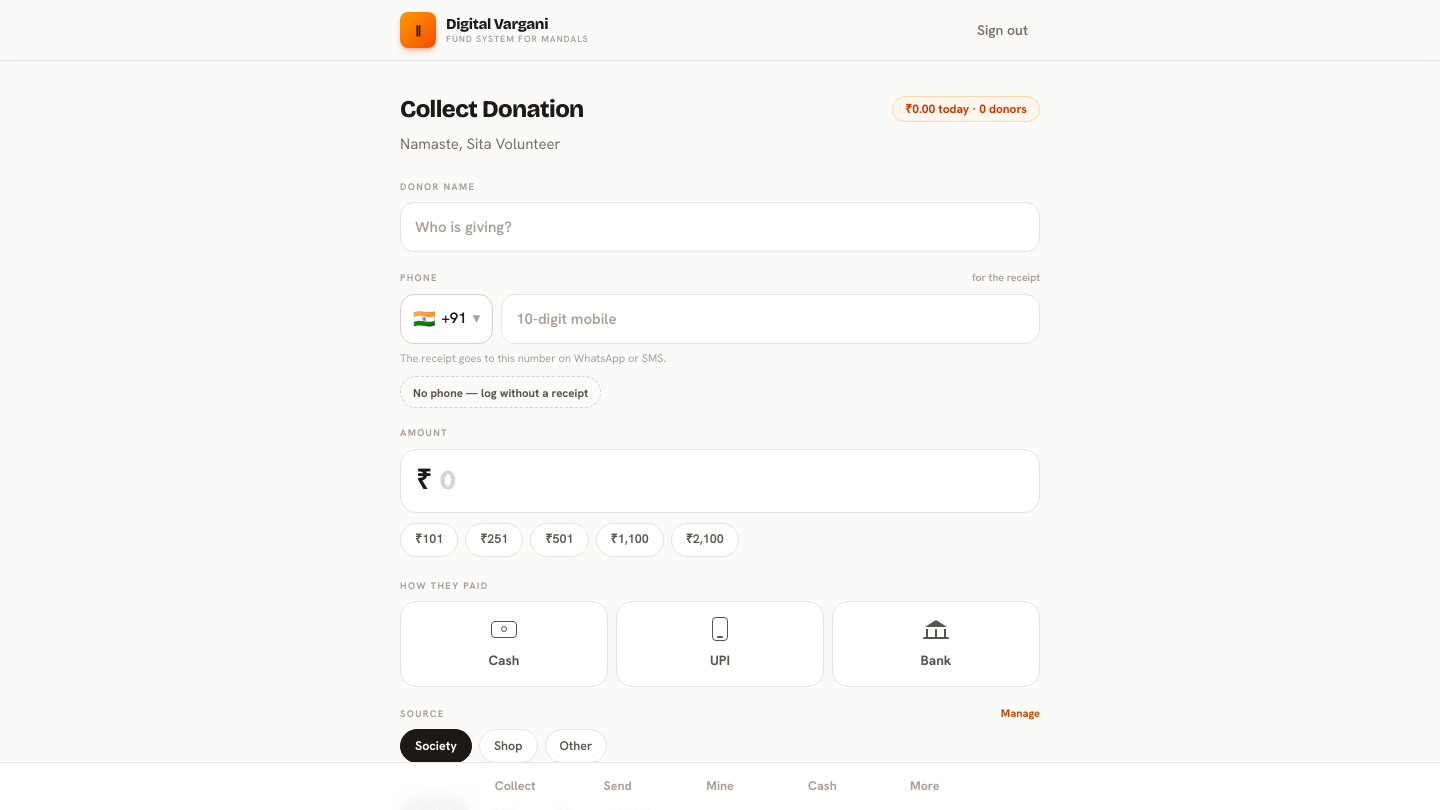
Scenario: CollectionForm › keeps the submit button inert until name, amount and mode are all present
Type "Ramesh Kulkarni" into the field labelled "Donor name" at [720, 227], box [400,202,1040,252]
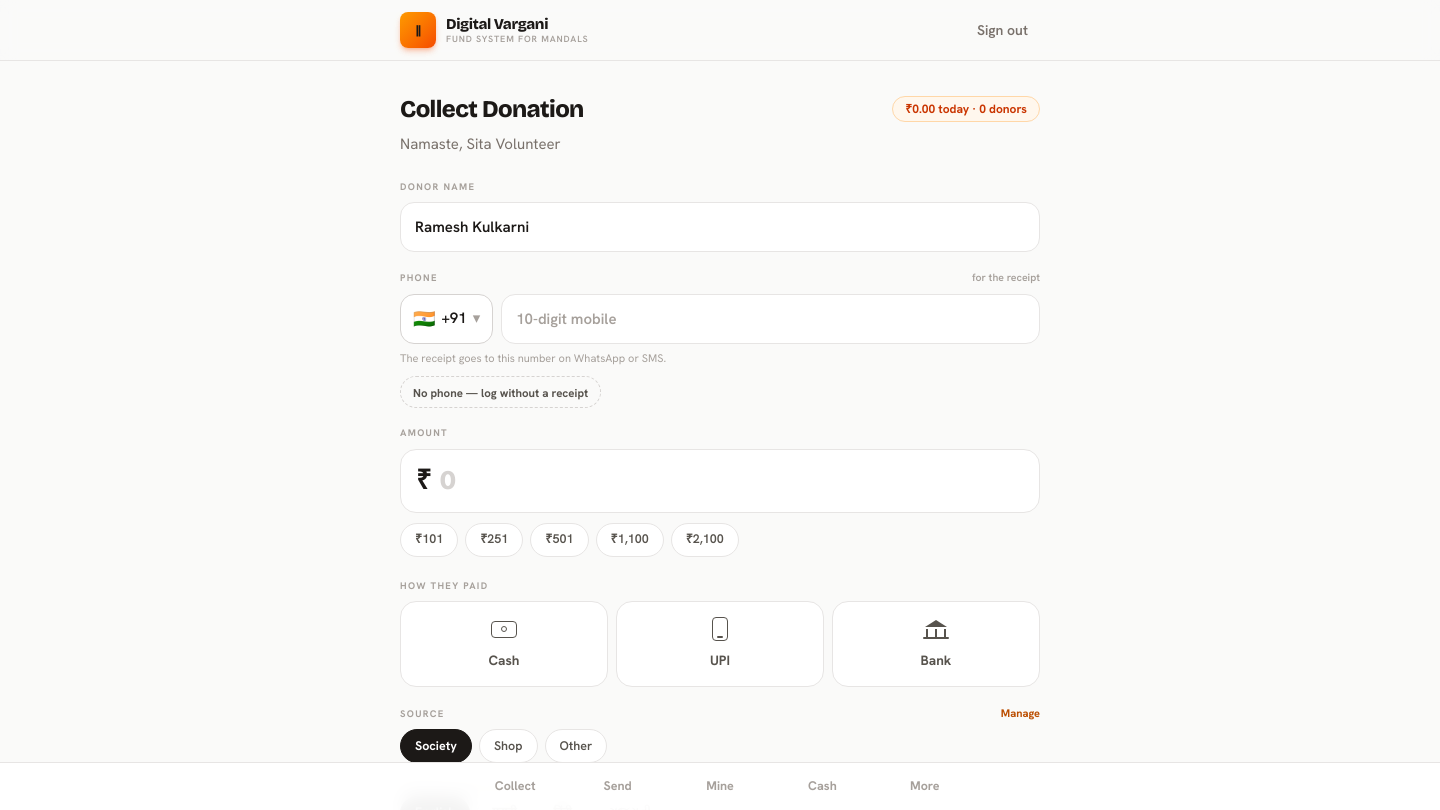
Type "501" into the number field labelled "Amount" at [732, 481], box [440,460,1024,501]
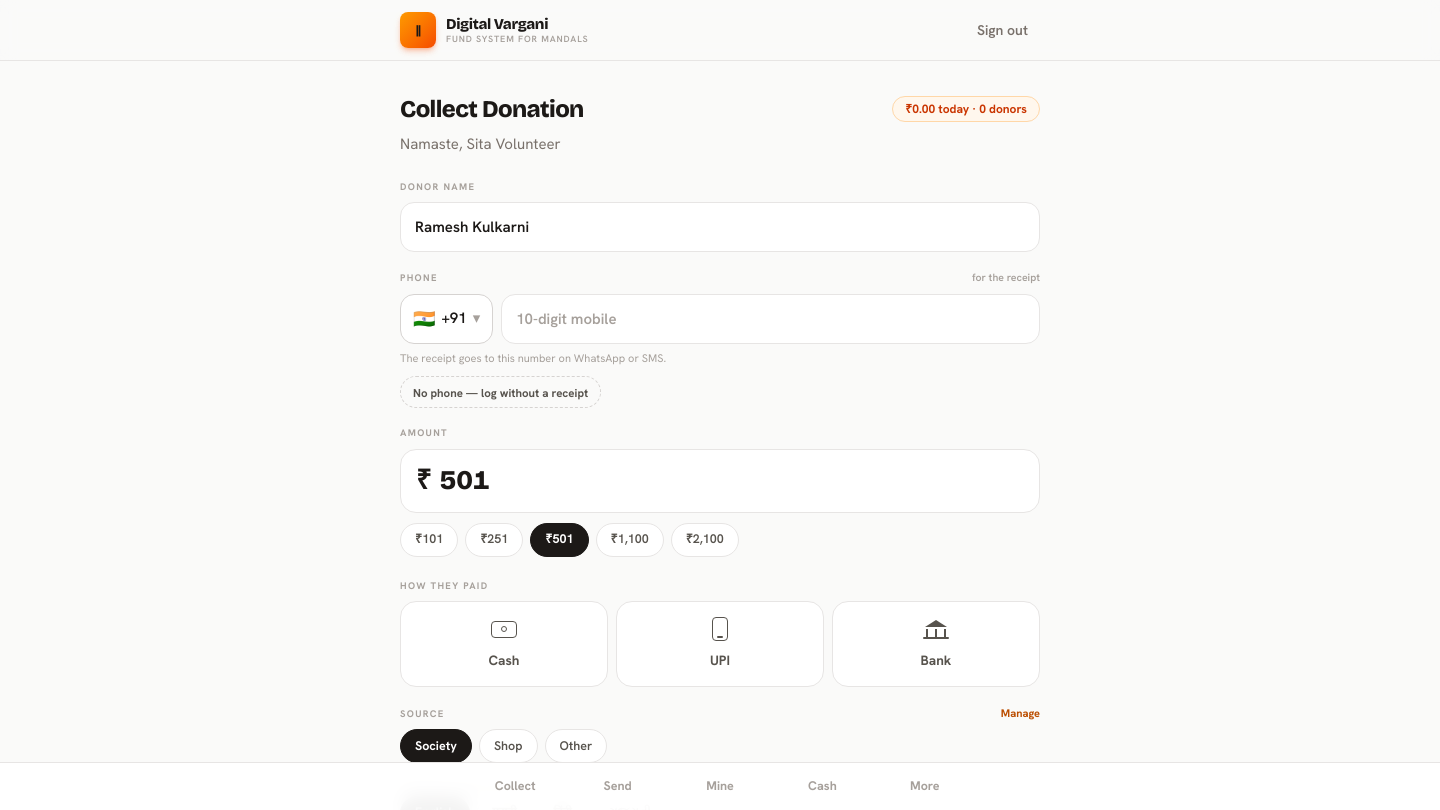
Type "9876543210" into the field named "Phone" at [771, 318], box [501,294,1040,344]
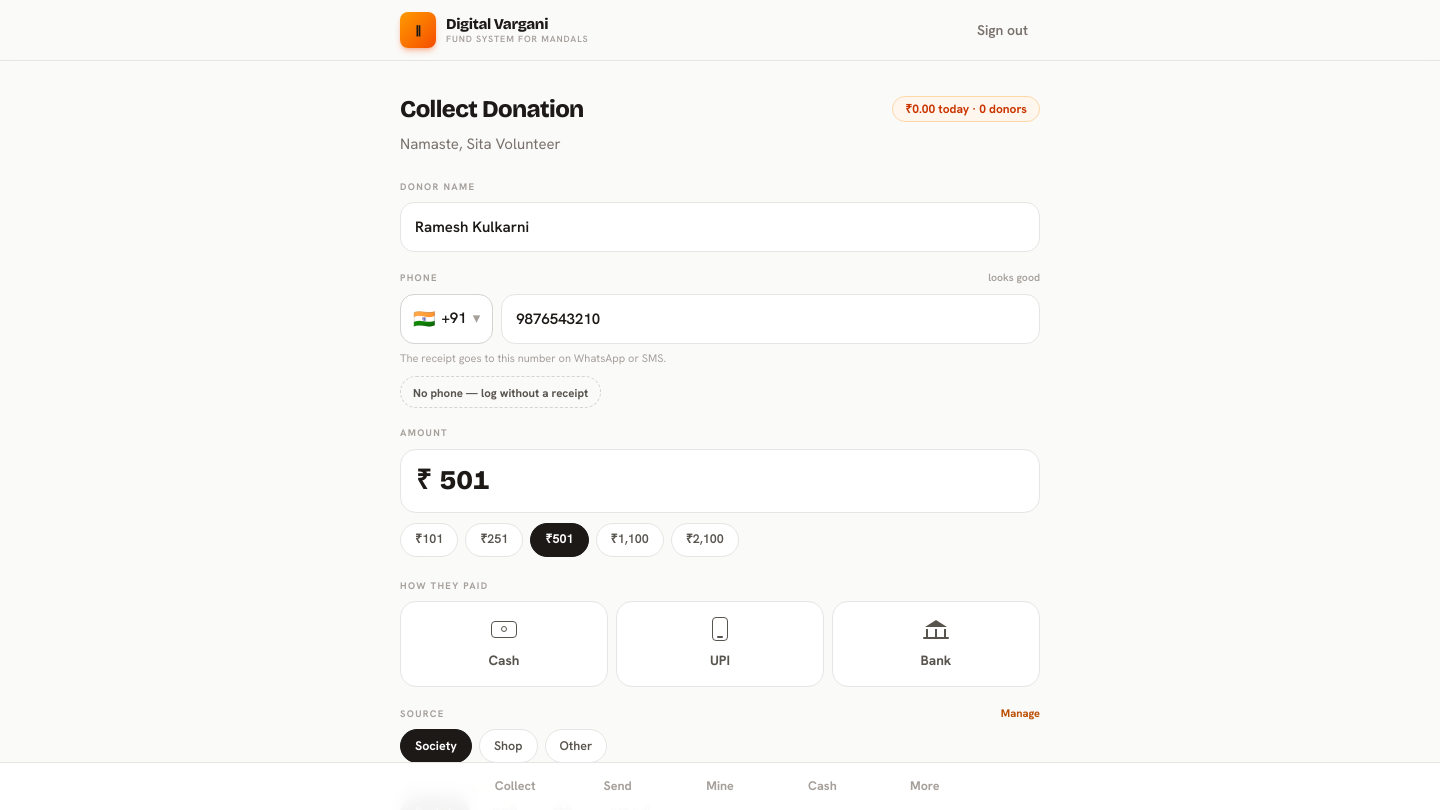
Click the button "Cash" at [504, 644], box [400,601,608,687]
(page scrolled)
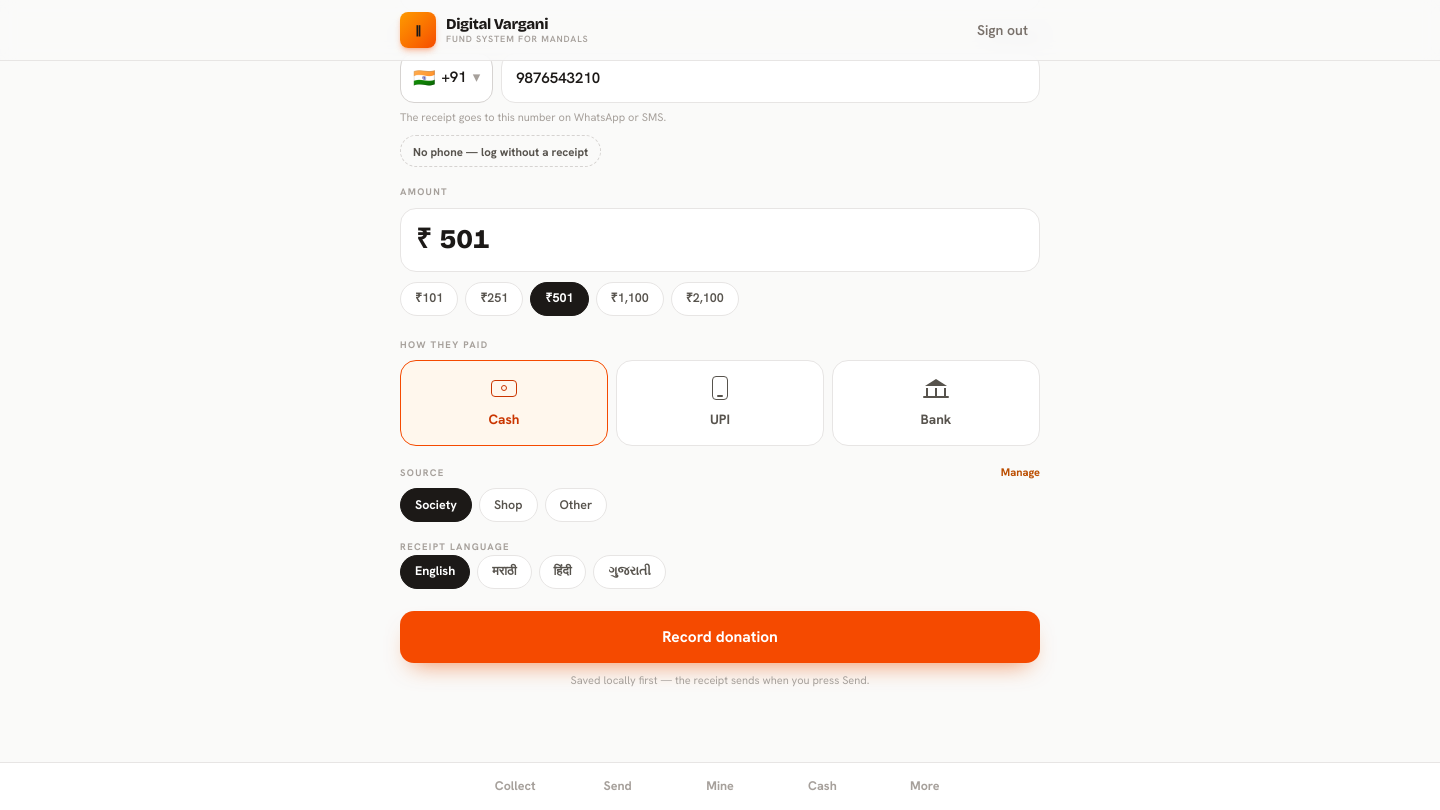
Expected: the button "Record donation" is enabled, [400,611,1040,663]
